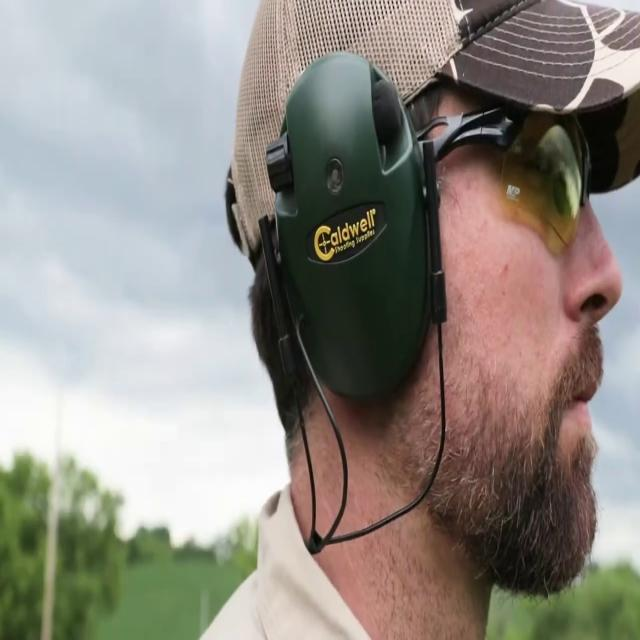earmuff: (263, 44, 438, 414)
glasses: (417, 101, 597, 253)
